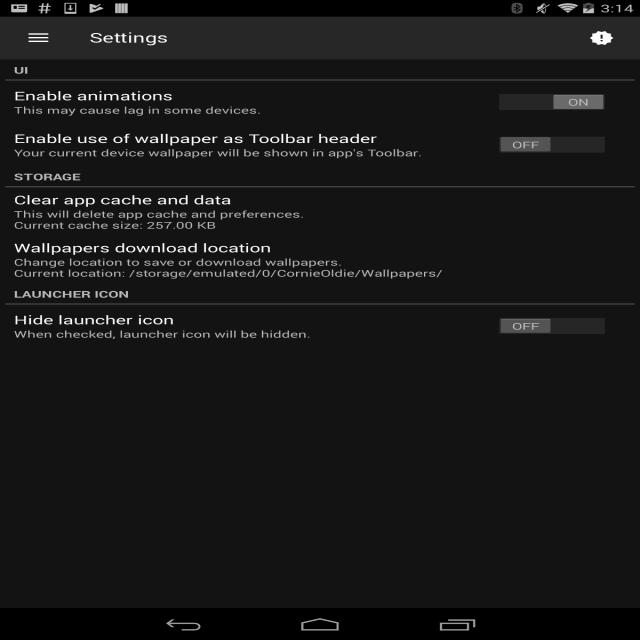ImageButton: (23, 29, 56, 47), (589, 29, 616, 48)
Switch: (495, 314, 614, 336), (498, 92, 608, 114), (493, 136, 609, 154)
TextView: (11, 132, 424, 162), (8, 240, 302, 278), (9, 192, 240, 233), (13, 309, 207, 342), (11, 88, 189, 118), (88, 30, 172, 45)
